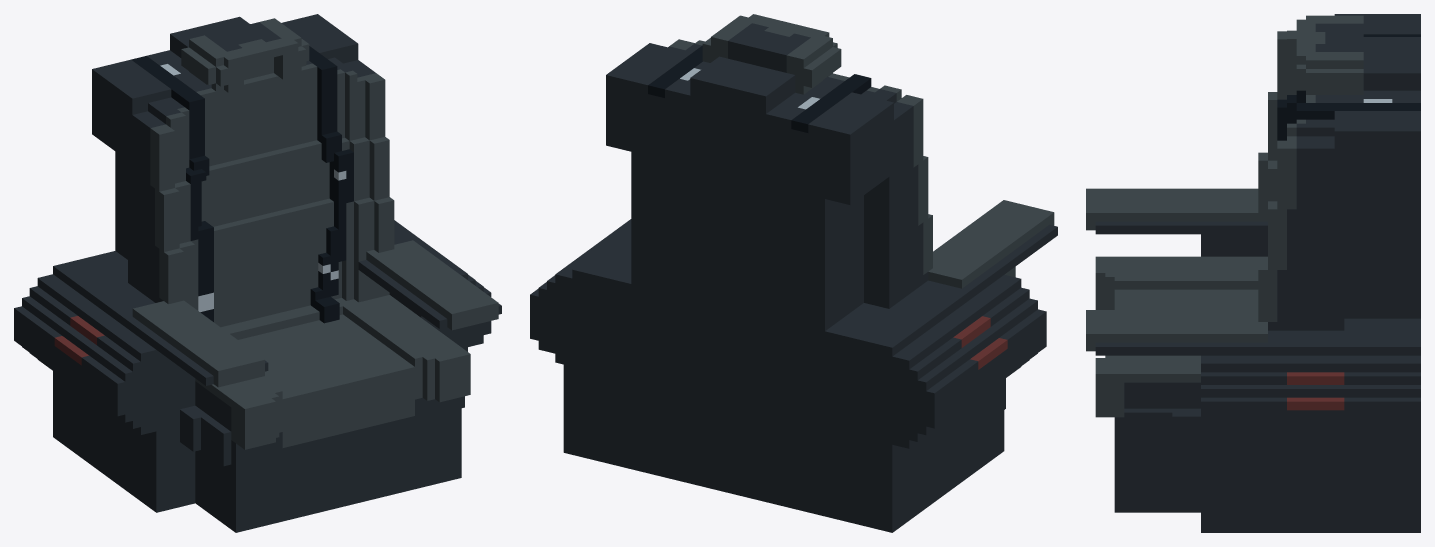
File: ItmStationNav.obj
3 views of the same model, side by side, from view 1: azimuth 30°, elevation 25°; view 2: azimuth 150°, elevation 25°; view 3: azimuth 270°, elevation 25° (orthographic). The views are drawn at different scales.
Bounding box in the file's own units: 48 × 48 × 35.
1 material, 1 textured.
